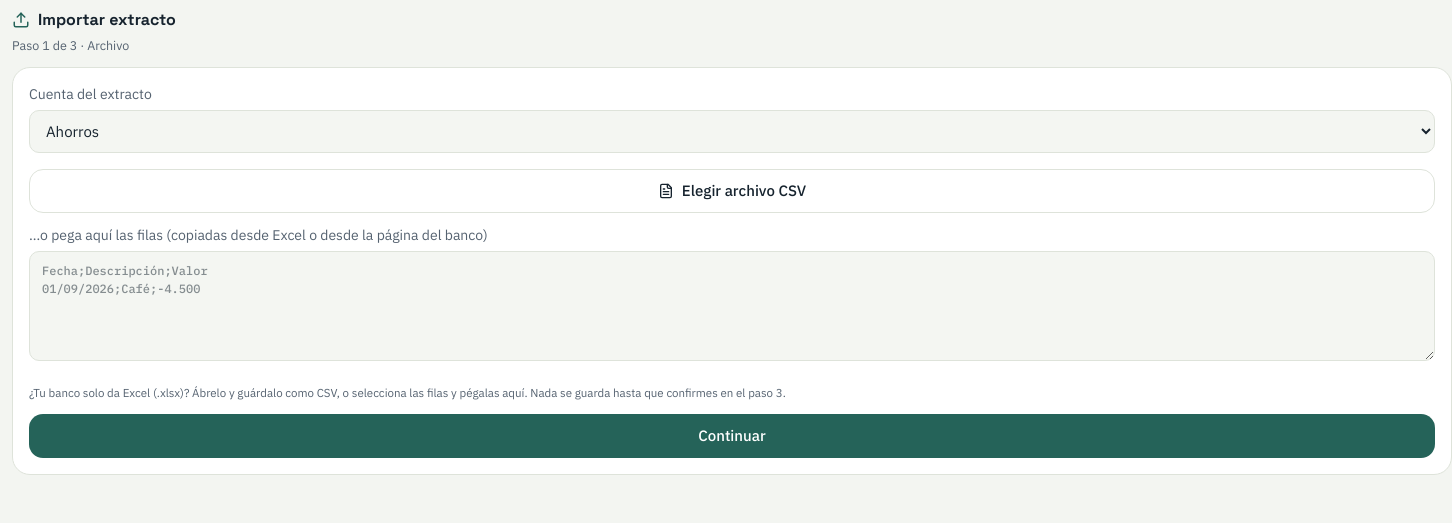
Scenario: ImportarExtractos (prueba de humo) › sin filas pide un archivo o texto
The width and height of the screenshot is (1452, 523).
Click the button "Continuar". click: (732, 436)
box: x1=29 y1=414 x2=1435 y2=458
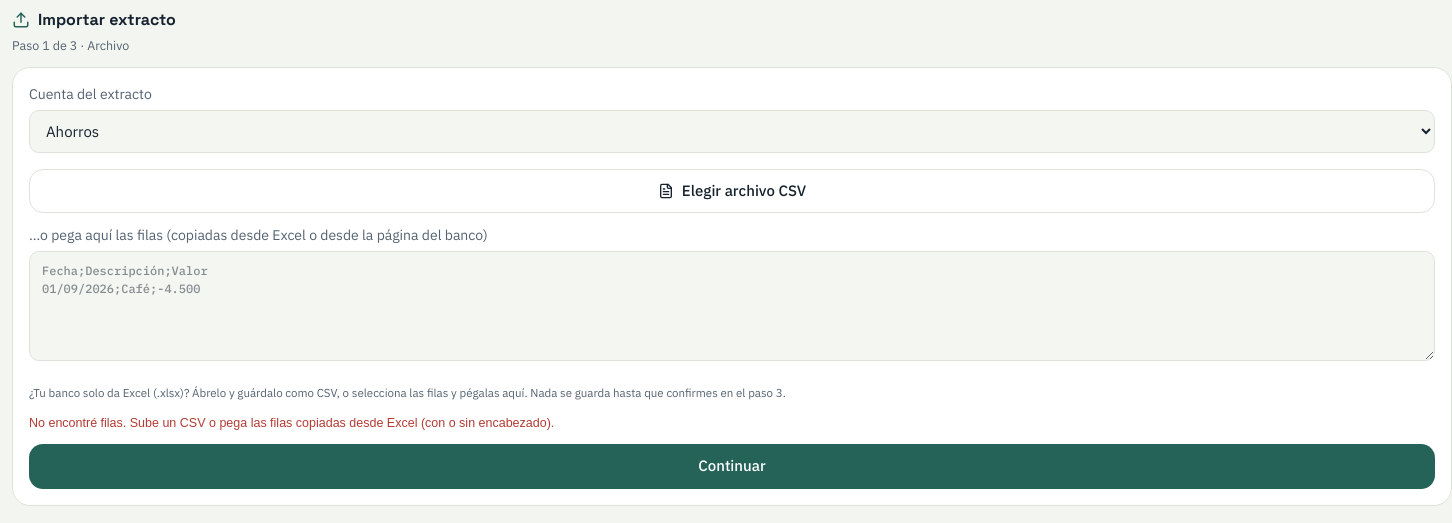
expect the text "No encontré filas" is shown: met, box x1=29 y1=416 x2=554 y2=430
